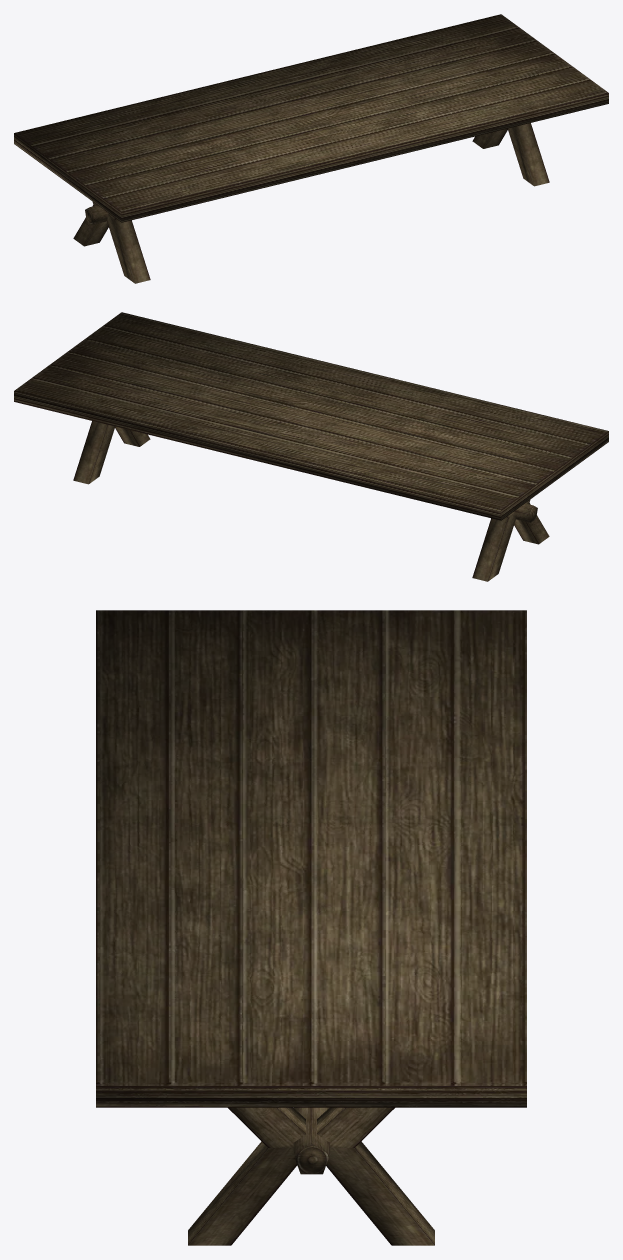
Rendered from GS_LOB_TABLE_HEAVY_LONG_BROWN_01_KOZA.glb.
The picture shows the model from 3 angles, top to bottom: view 1: azimuth 30°, elevation 25°; view 2: azimuth 150°, elevation 25°; view 3: azimuth 270°, elevation 25°; orthographic projection. The views are drawn at different scales.
Parts seen in each view (by area): view 1: Mesh; view 2: Mesh; view 3: Mesh.
Part boxes in pixels (<box>): Mesh: <box>14,14,608,283</box>; Mesh: <box>14,312,608,581</box>; Mesh: <box>96,610,526,1245</box>.
Size of the model in its own units: 4.7 by 0.9001 by 1.8.
3 materials, 3 textured.
